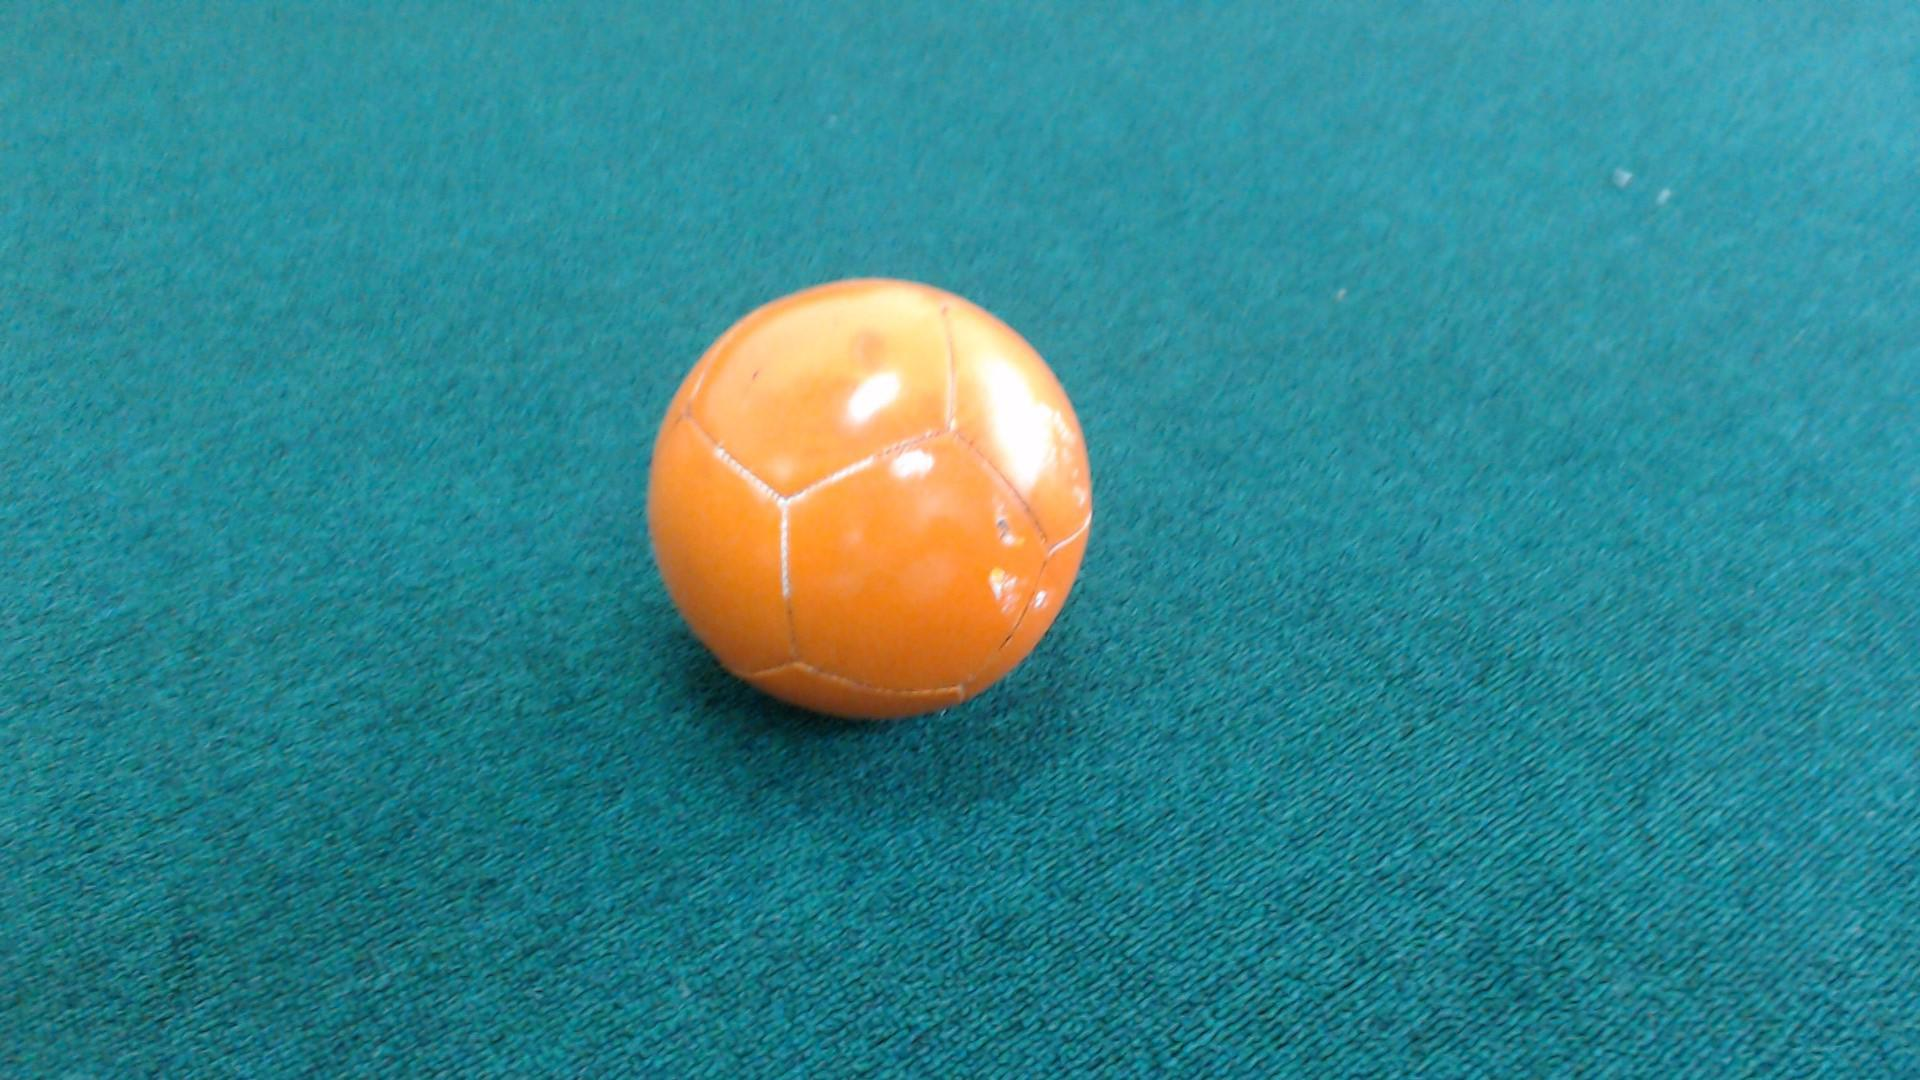bola: (636, 282, 1105, 731)
